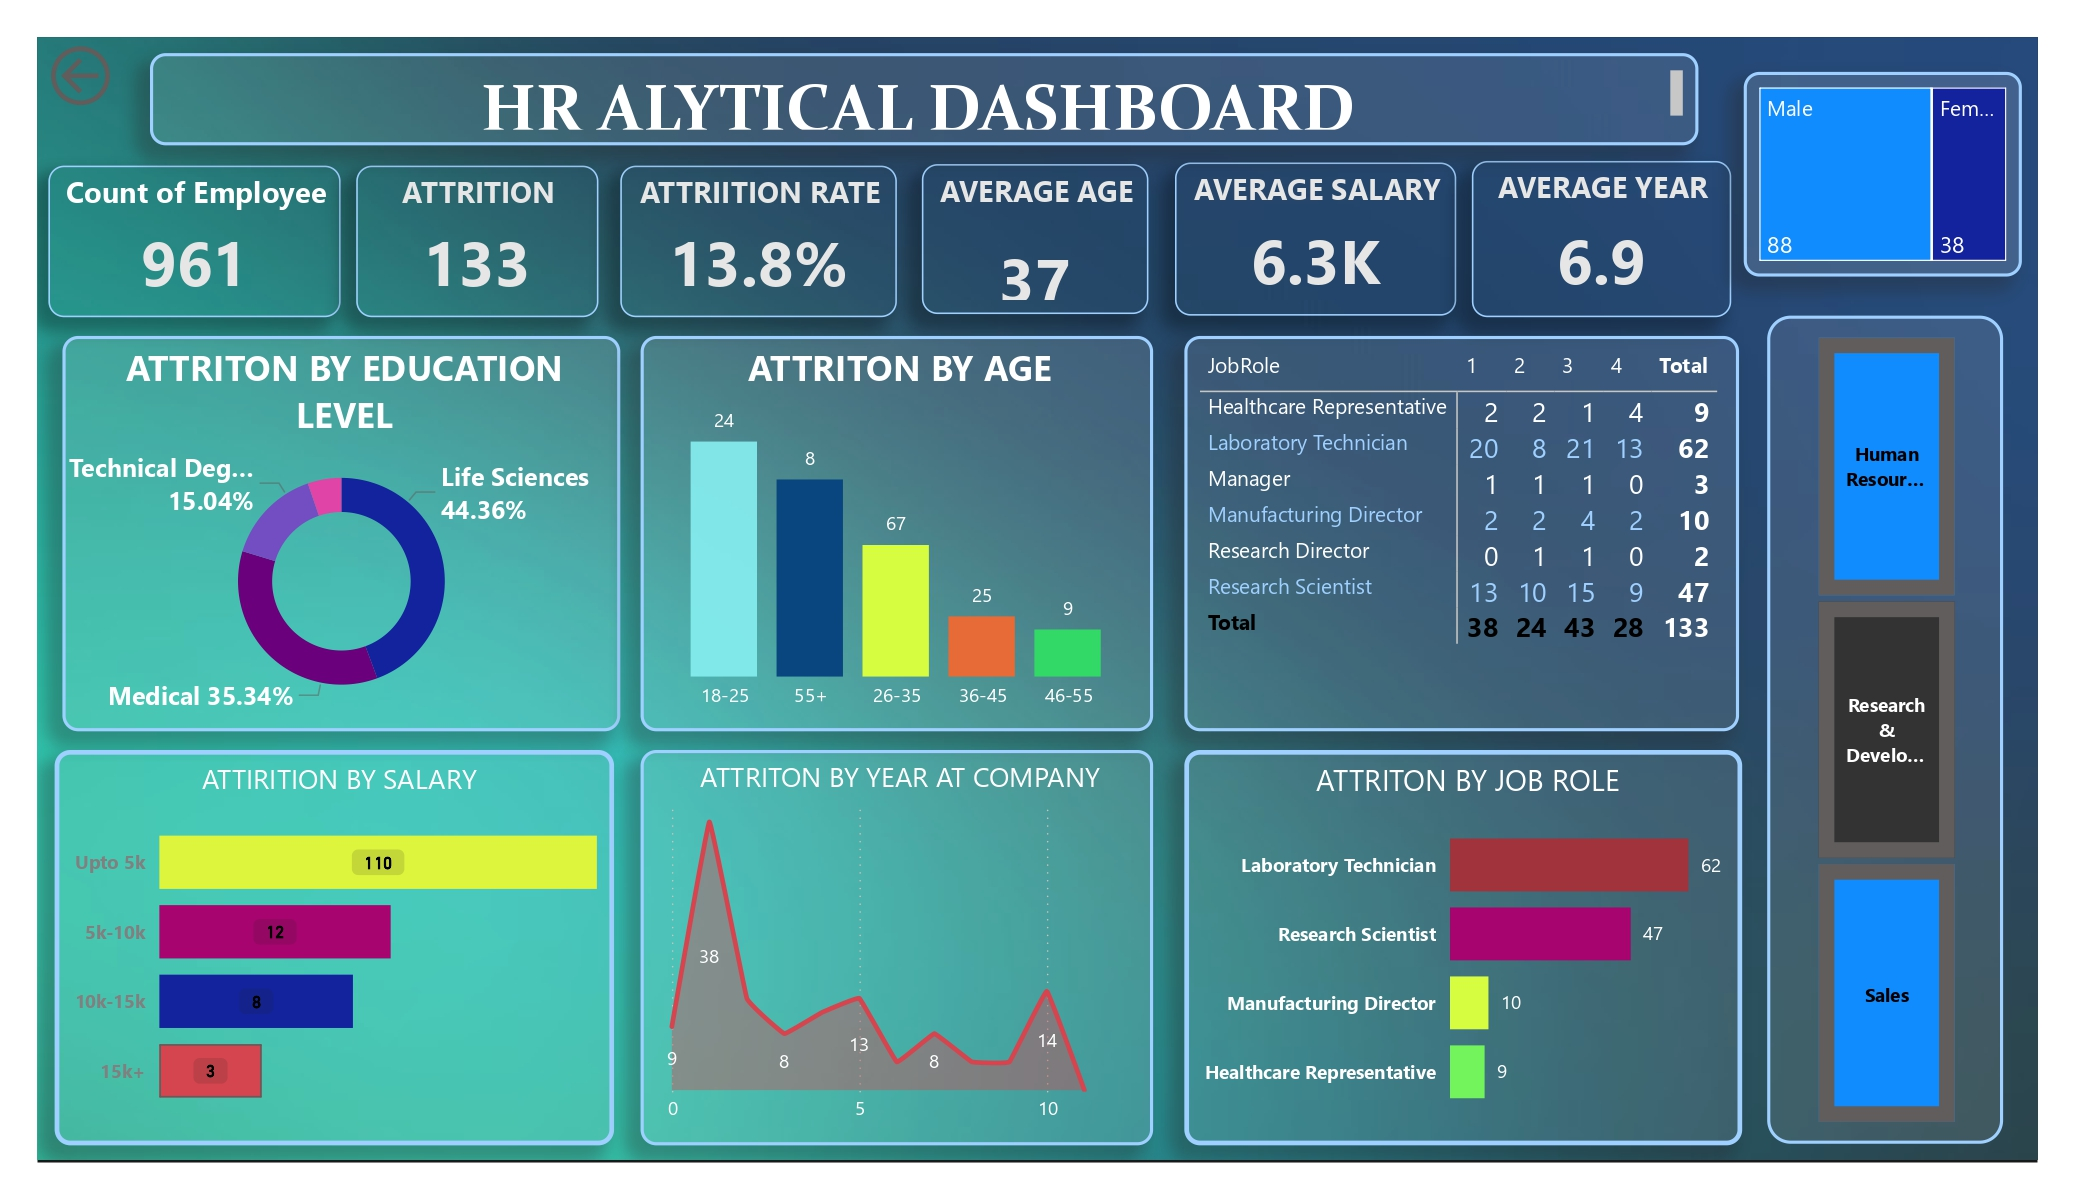

What the dashboard file says about the page in this screenshot:
{"tool":"powerbi","page":{"name":"Page 1","canvas":[1280,720],"ordinal":0},"visuals":[{"type":"card","title":"Count of Employee","fields":{"Values":["CountNonNull(HR_Analytics.EmpID)"]},"box":[7.1,82.2,187.1,96.4],"z":0},{"type":"card","title":"ATTRIITION RATE","fields":{"Values":["HR_Analytics.AttritionRate"]},"box":[372.8,82.2,177.2,96.4],"z":1000},{"type":"card","title":"AVERAGE SALARY","fields":{"Values":["Avg(HR_Analytics.MonthlyIncome)"]},"box":[728.4,79.7,179.7,98.5],"z":2000},{"type":"card","title":"ATTRITION","fields":{"Values":["Sum(HR_Analytics.AttritionCount)"]},"box":[204.1,82.2,154.5,96.4],"z":3000},{"type":"card","title":"AVERAGE AGE ","fields":{"Values":["Avg(HR_Analytics.Age)"]},"box":[565.8,81.3,145.4,95.3],"z":4000},{"type":"card","title":"AVERAGE YEAR","fields":{"Values":["Avg(HR_Analytics.YearsAtCompany)"]},"box":[918.4,79.4,165.8,99.2],"z":5000},{"type":"actionButton","box":[3.4,0,94.1,49],"z":6000},{"type":"donutChart","title":"ATTRITON BY EDUCATION LEVEL","fields":{"Category":["HR_Analytics.EducationField"],"Y":["Sum(HR_Analytics.AttritionCount)"]},"box":[15.6,191.3,357.2,252.3],"z":7000},{"type":"columnChart","title":"ATTRITON BY AGE ","fields":{"Category":["HR_Analytics.AgeGroup"],"Y":["HR_Analytics.AttritionRate"]},"box":[385.5,191.3,328.8,252.3],"z":8000},{"type":"pivotTable","fields":{"Rows":["HR_Analytics.JobRole"],"Columns":["HR_Analytics.JobSatisfaction"],"Values":["Sum(HR_Analytics.AttritionCount)"]},"box":[734.2,191.3,354.3,252.3],"z":9000},{"type":"clusteredBarChart","title":"ATTIRITION BY SALARY","fields":{"Category":["HR_Analytics.SalarySlab"],"Y":["Sum(HR_Analytics.AttritionCount)"]},"box":[11.3,456.4,357.2,252.3],"z":9001},{"type":"clusteredBarChart","title":"ATTRITON BY JOB ROLE","fields":{"Y":["Sum(HR_Analytics.AttritionCount)"],"Category":["HR_Analytics.JobRole"]},"box":[734.2,456.4,357.2,252.3],"z":9002},{"type":"stackedAreaChart","title":"ATTRITON  BY YEAR AT COMPANY ","fields":{"Category":["HR_Analytics.YearsAtCompany"],"Y":["Sum(HR_Analytics.AttritionCount)"]},"box":[385.5,456.4,328.8,252.3],"z":9003},{"type":"treemap","fields":{"Group":["HR_Analytics.Gender"],"Values":["Sum(HR_Analytics.AttritionCount)"]},"box":[1091.9,21.8,178.1,131],"z":9004},{"type":"slicer","fields":{"Values":["HR_Analytics.Department"]},"box":[1106.6,178.2,151.6,529.9],"z":9005},{"type":"textbox","box":[73.3,5,990,70],"z":9006}]}

Visuals, with their boxes in screenshot pixels (x1, y1, x2, y2):
"Count of Employee" card: (left=49, top=166, right=341, bottom=317)
"ATTRIITION RATE" card: (left=620, top=166, right=897, bottom=317)
"AVERAGE SALARY" card: (left=1176, top=162, right=1456, bottom=316)
"ATTRITION" card: (left=356, top=166, right=598, bottom=317)
"AVERAGE AGE " card: (left=922, top=165, right=1149, bottom=313)
"AVERAGE YEAR" card: (left=1472, top=162, right=1732, bottom=317)
actionButton: (left=43, top=38, right=190, bottom=114)
"ATTRITON BY EDUCATION LEVEL" donutChart: (left=62, top=336, right=620, bottom=731)
"ATTRITON BY AGE " columnChart: (left=640, top=336, right=1154, bottom=731)
pivotTable - HR_Analytics.JobRole x HR_Analytics.JobSatisfaction: (left=1185, top=336, right=1738, bottom=731)
"ATTIRITION BY SALARY" clusteredBarChart: (left=55, top=751, right=613, bottom=1145)
"ATTRITON BY JOB ROLE" clusteredBarChart: (left=1185, top=751, right=1743, bottom=1145)
"ATTRITON  BY YEAR AT COMPANY " stackedAreaChart: (left=640, top=751, right=1154, bottom=1145)
treemap - HR_Analytics.Gender x Sum(HR_Analytics.AttritionCount): (left=1744, top=72, right=2022, bottom=276)
slicer - HR_Analytics.Department: (left=1767, top=316, right=2003, bottom=1144)
textbox: (left=152, top=45, right=1699, bottom=155)
